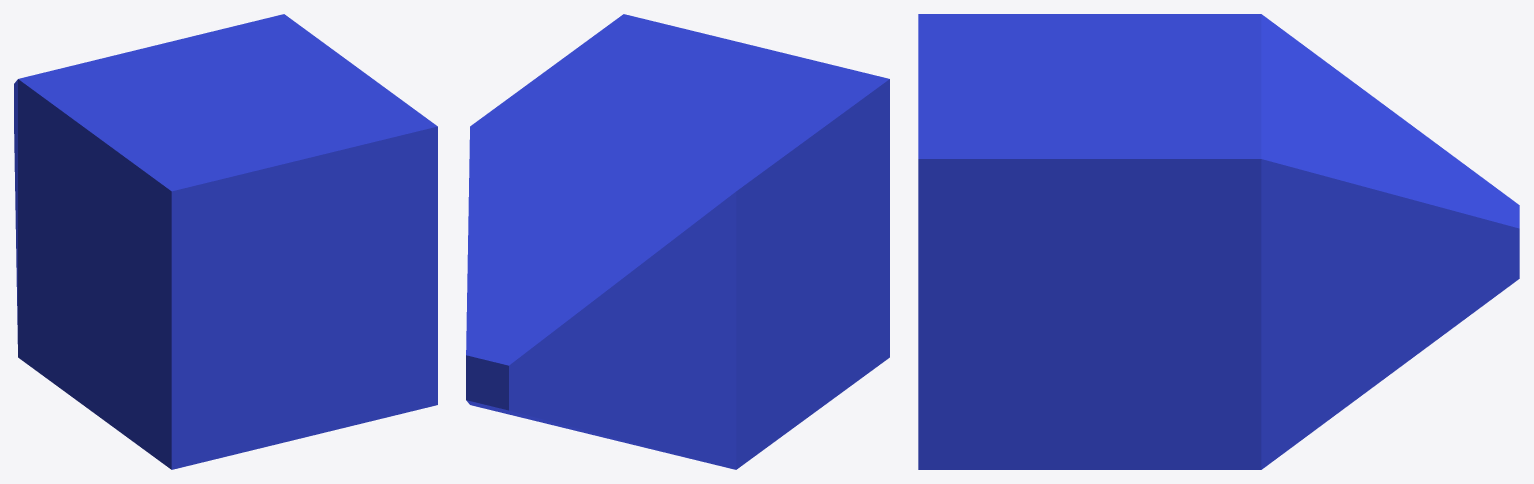
The picture shows the model from 3 angles, left to right: view 1: azimuth 30°, elevation 25°; view 2: azimuth 150°, elevation 25°; view 3: azimuth 270°, elevation 25°; orthographic projection. The views are drawn at different scales.
Parts seen in each view (by area): view 1: Cube; view 2: Cube; view 3: Cube.
Part boxes in pixels (box(x1,y1,x2,y2)): Cube: box(14, 14, 437, 469); Cube: box(466, 14, 889, 469); Cube: box(918, 14, 1519, 469).
Size of the model in its own units: 200 by 200 by 350.
